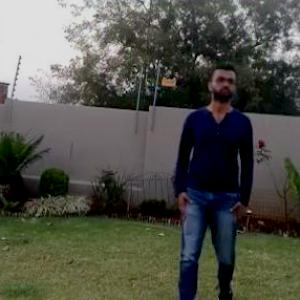follow: (162, 59, 252, 299)
